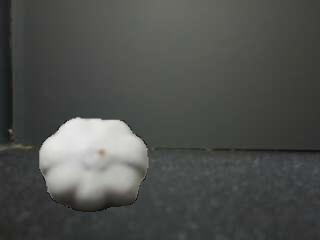Garlic: (38, 117, 151, 214)
